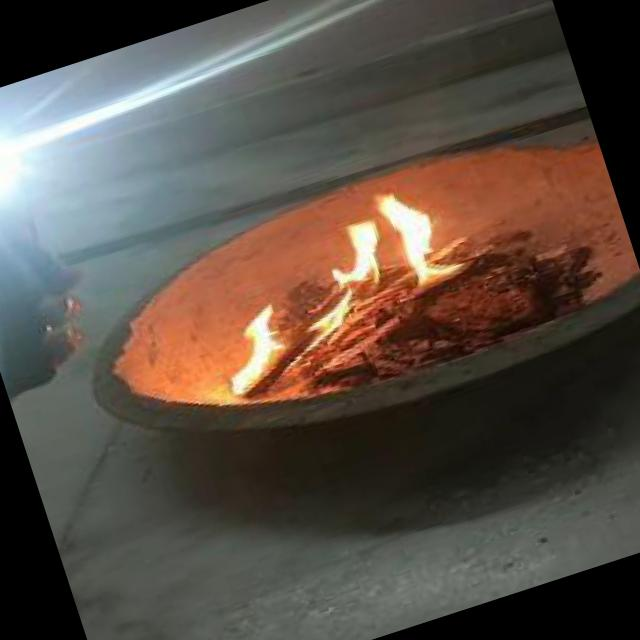fire: (174, 166, 509, 407)
